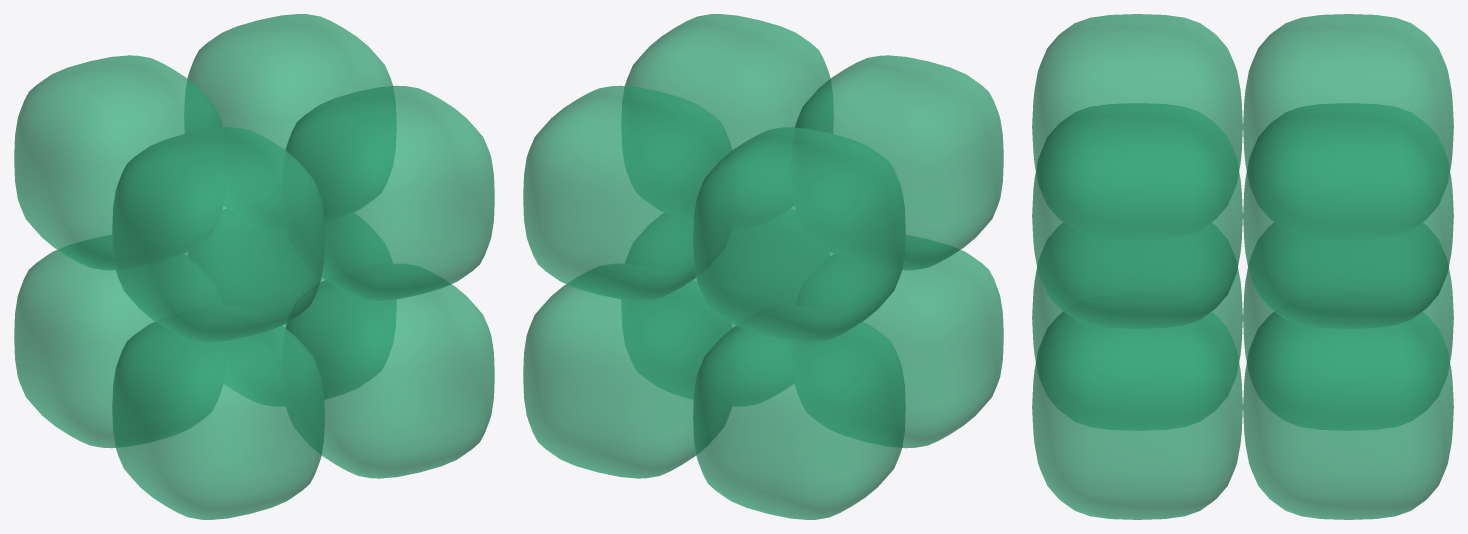
Rendered from br-m-bubble-quad-green.fbx.
The picture shows the model from 3 angles, left to right: view 1: azimuth 30°, elevation 25°; view 2: azimuth 150°, elevation 25°; view 3: azimuth 270°, elevation 25°; orthographic projection. The views are drawn at different scales.
Visible parts, largest first — view 1: bubble3, bubble2, bubble7, pCube416, bubble6, bubble5, bubble, bubble4; view 2: pCube416, bubble, bubble5, bubble3, bubble4, bubble7, bubble2, bubble6; view 3: bubble2, bubble, bubble6, bubble4, bubble3, pCube416, bubble5, bubble7.
Part boxes in pixels (bbox=[...]): bubble3: bbox=[112, 127, 324, 341]; bubble2: bbox=[283, 85, 494, 300]; bubble7: bbox=[112, 305, 324, 519]; pCube416: bbox=[14, 55, 225, 270]; bubble6: bbox=[283, 264, 494, 478]; bubble5: bbox=[14, 235, 225, 448]; bubble: bbox=[184, 14, 395, 228]; bubble4: bbox=[188, 209, 395, 405]; pCube416: bbox=[693, 127, 905, 341]; bubble: bbox=[523, 85, 734, 300]; bubble5: bbox=[693, 305, 905, 519]; bubble3: bbox=[792, 55, 1003, 270]; bubble4: bbox=[523, 264, 734, 478]; bubble7: bbox=[792, 235, 1003, 448]; bubble2: bbox=[622, 14, 833, 228]; bubble6: bbox=[622, 209, 829, 405]; bubble2: bbox=[1032, 103, 1242, 328]; bubble: bbox=[1243, 103, 1453, 328]; bubble6: bbox=[1032, 295, 1242, 519]; bubble4: bbox=[1243, 295, 1453, 519]; bubble3: bbox=[1032, 14, 1242, 238]; pCube416: bbox=[1243, 14, 1453, 238]; bubble5: bbox=[1243, 223, 1453, 430]; bubble7: bbox=[1032, 223, 1242, 430].
Size of the model in its own units: 1 by 1 by 1.
